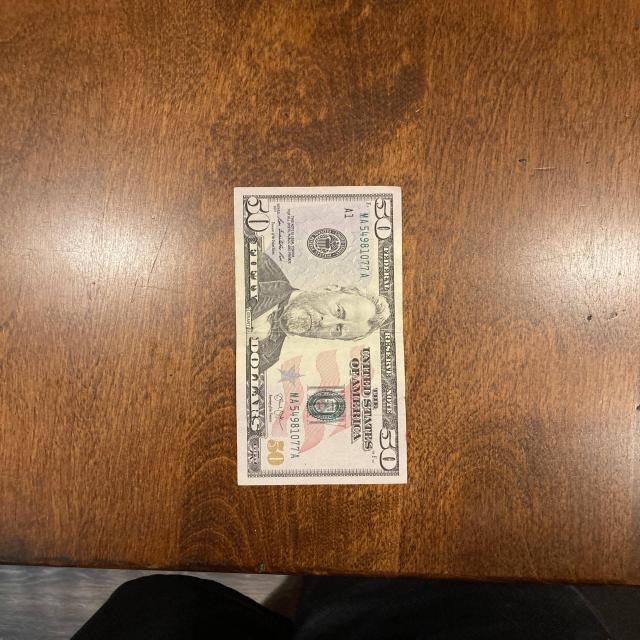fifty: (233, 186, 409, 486)
